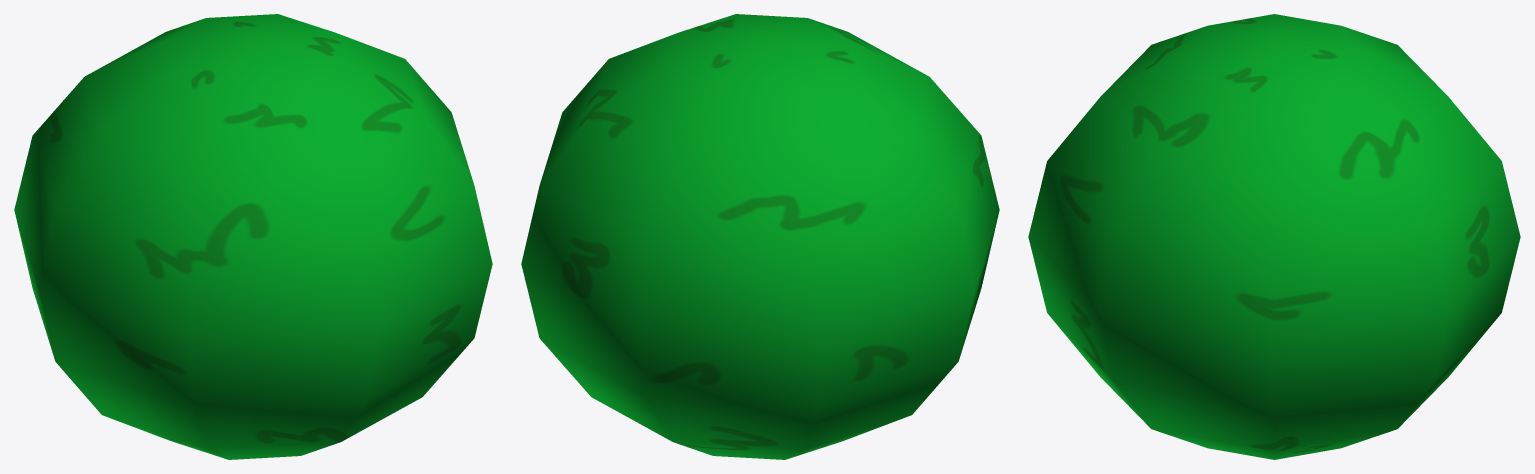
The model's file is SD_BushV2.fbx.
The picture shows the model from 3 angles, left to right: view 1: azimuth 30°, elevation 25°; view 2: azimuth 150°, elevation 25°; view 3: azimuth 270°, elevation 25°; orthographic projection.
Visible parts, largest first — view 1: BushV2; view 2: BushV2; view 3: BushV2.
Part boxes in pixels (x1,y1,x2,y2): BushV2: [14, 14, 492, 459]; BushV2: [521, 14, 999, 459]; BushV2: [1028, 14, 1520, 459].
Size of the model in its own units: 225 by 200 by 225.
Materials: 1 (1 with a texture image).
